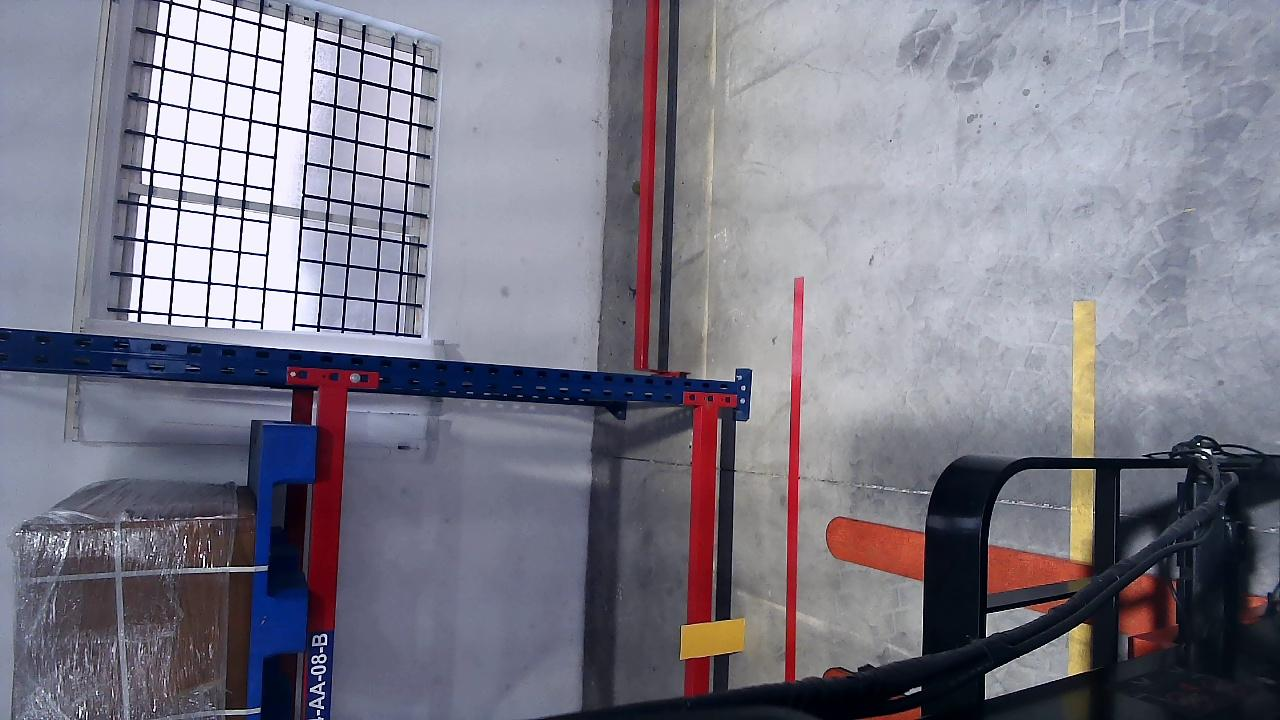h_rack: (693, 408, 712, 695), (318, 391, 333, 716)
orange_strip: (683, 627, 741, 654)
red_line: (786, 281, 801, 682)
small_pallet: (253, 430, 314, 713)
yellow_line: (1070, 299, 1098, 668)
